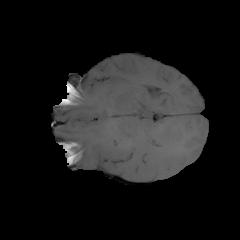glioma: (150, 125, 184, 150)
